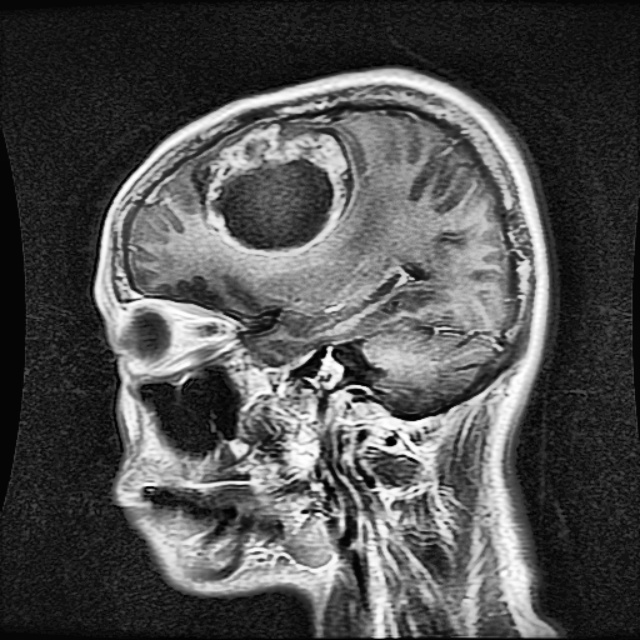Meningioma: (199, 123, 354, 259)
